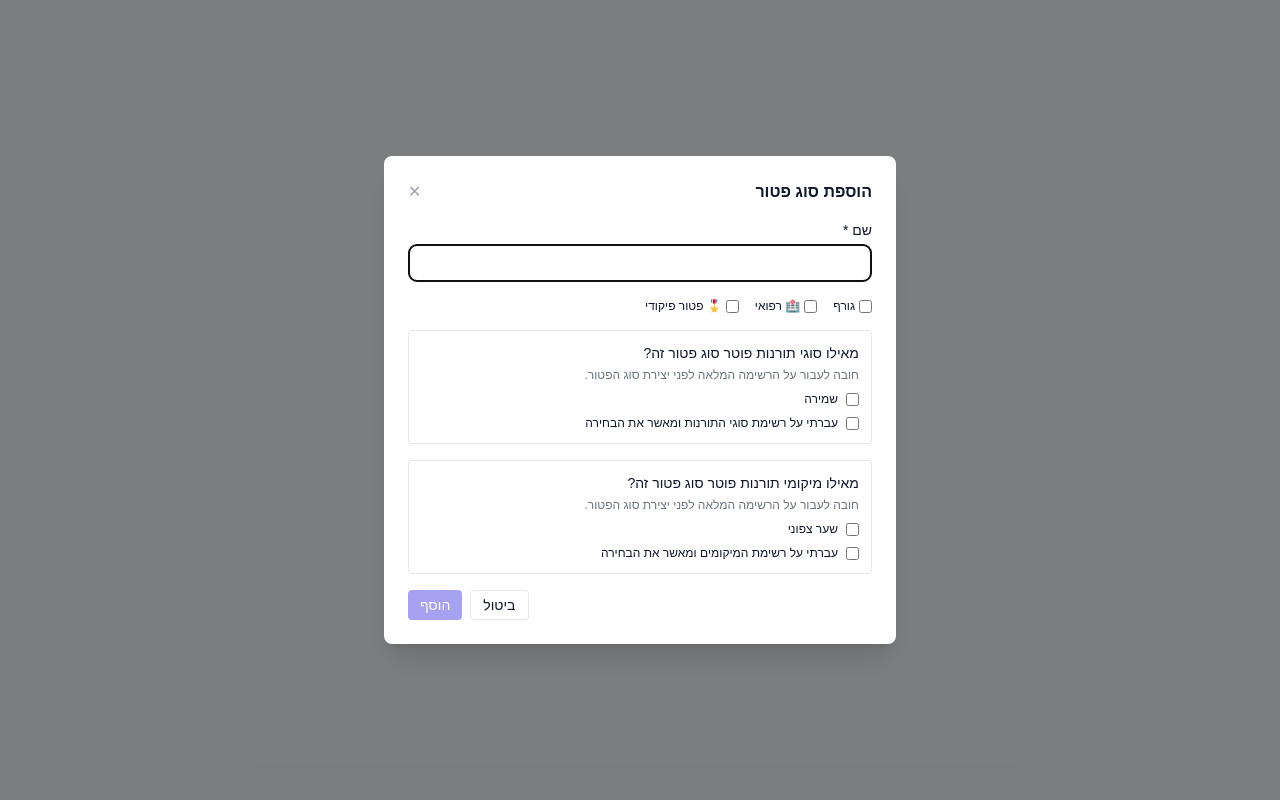
Scenario: ExemptionTypeFormModal › disables submit until both duty-type and duty-location review are confirmed
Step 1. Type "רפואי" into the field labelled "שם *" → (640, 263), box [408,244,872,282]
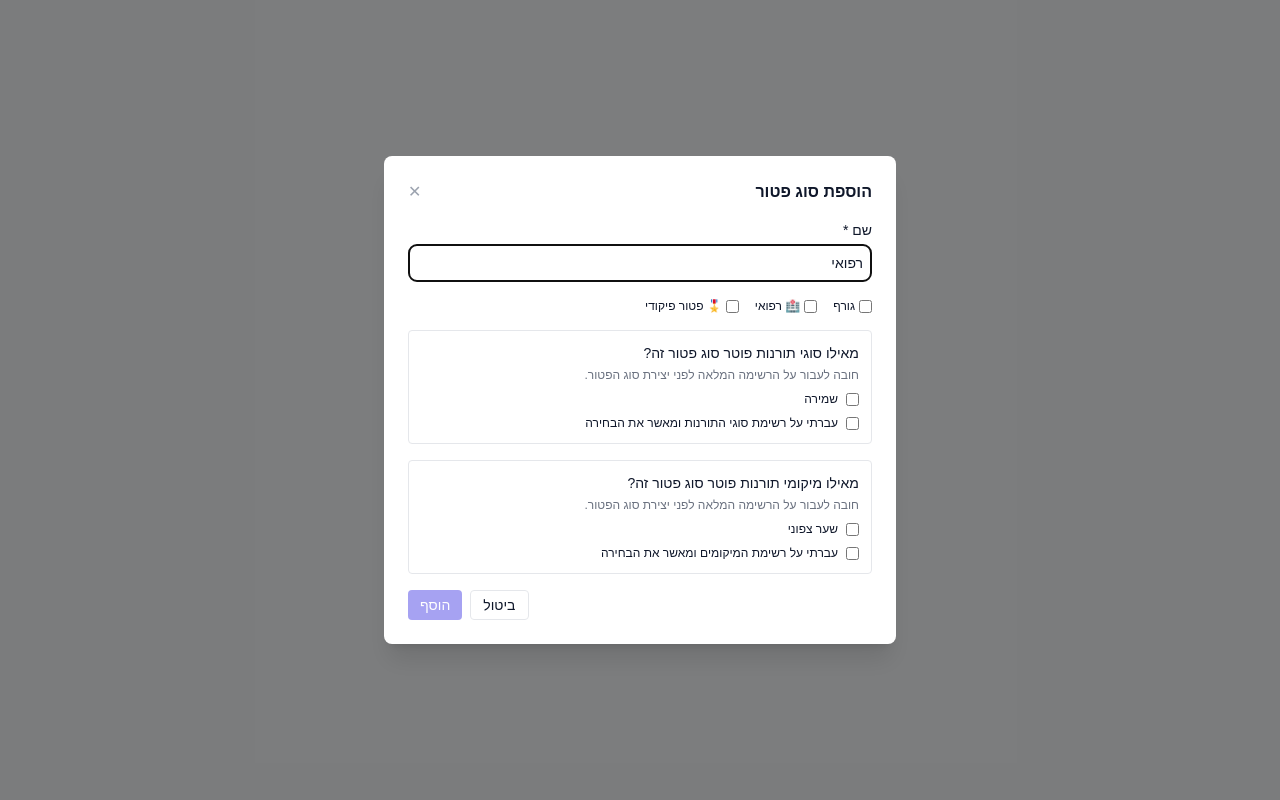
Expected: the button "הוסף" is disabled, [408,590,462,620]
Step 2. Click the checkbox labelled "שמירה" → click(852, 399), box [846,392,859,406]
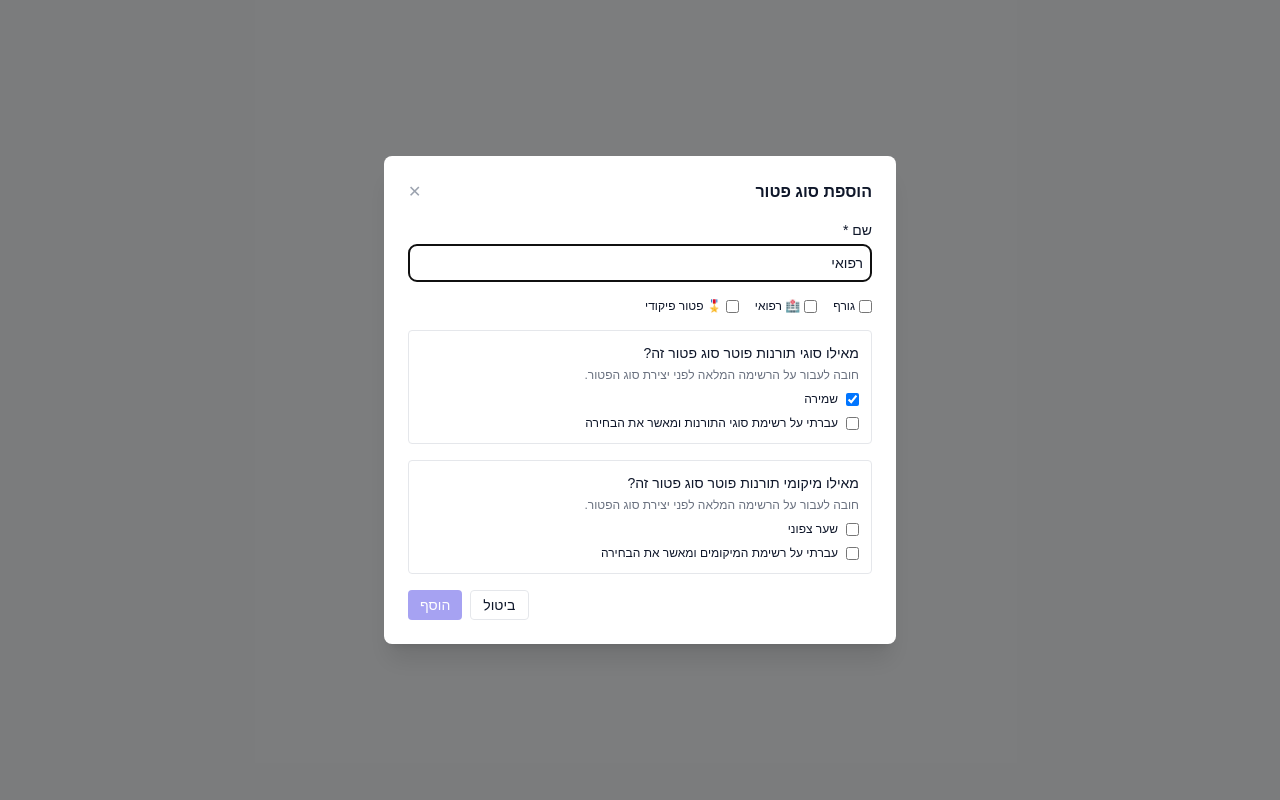
Step 3. Click the checkbox labelled "עברתי על רשימת סוגי התורנות ומאשר את הבחירה" → click(852, 423), box [846,416,859,430]
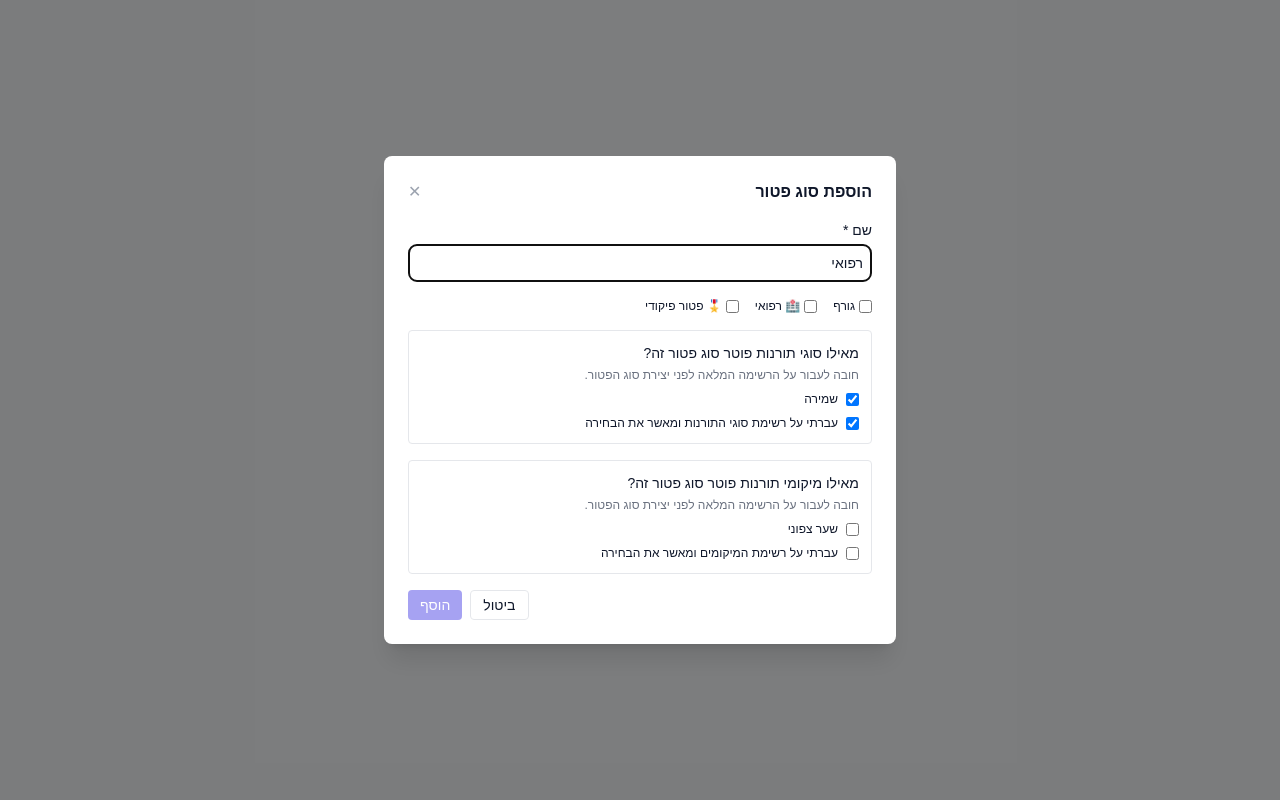
Expected: the button "הוסף" is disabled, [408,590,462,620]
Step 4. Click the checkbox labelled "עברתי על רשימת המיקומים ומאשר את הבחירה" → click(852, 553), box [846,546,859,560]
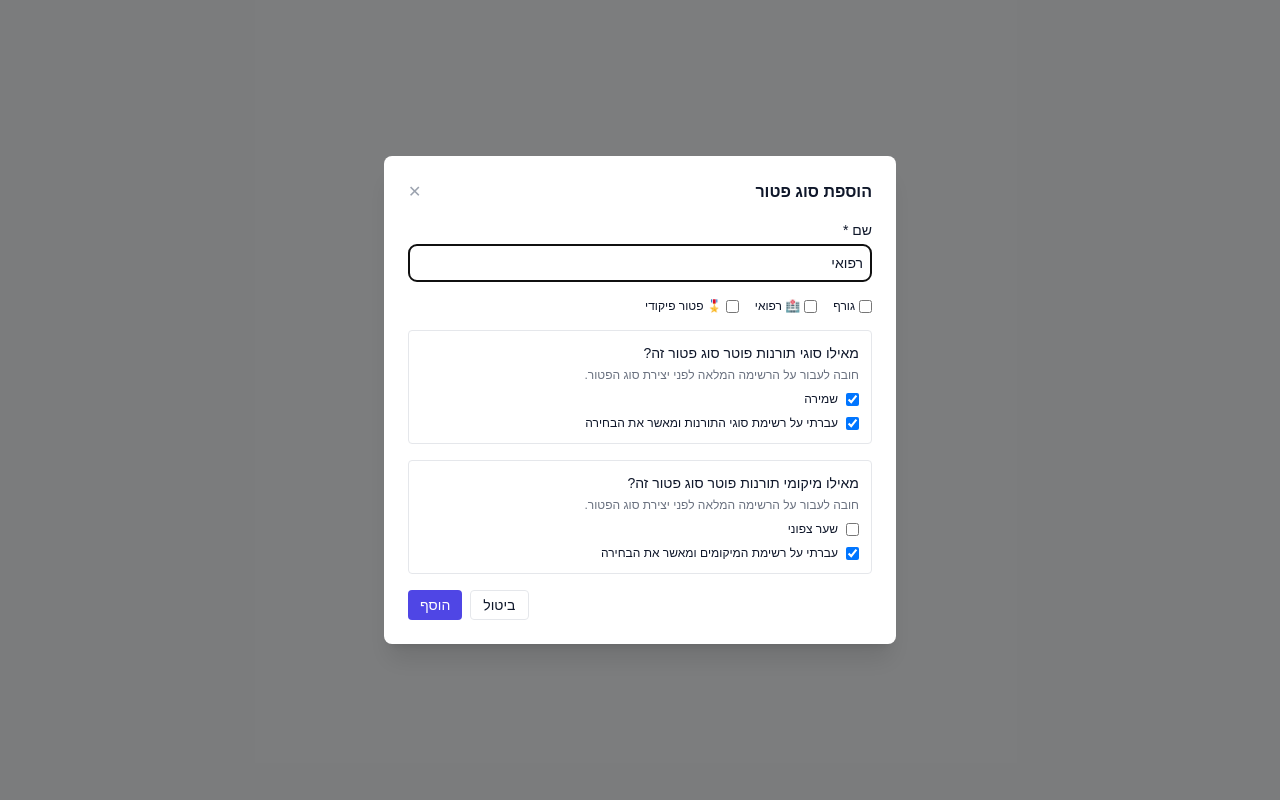
Expected: the button "הוסף" is enabled, [408,590,462,620]
